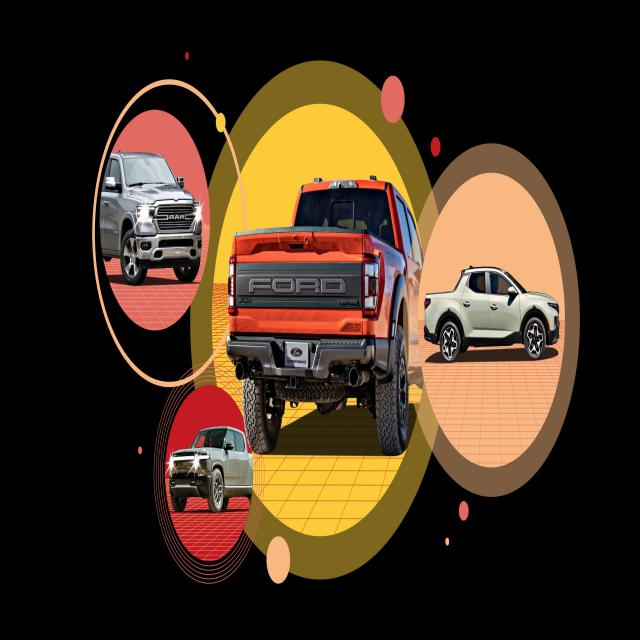truck: (220, 142, 430, 494), (421, 238, 567, 399), (167, 391, 257, 535)
